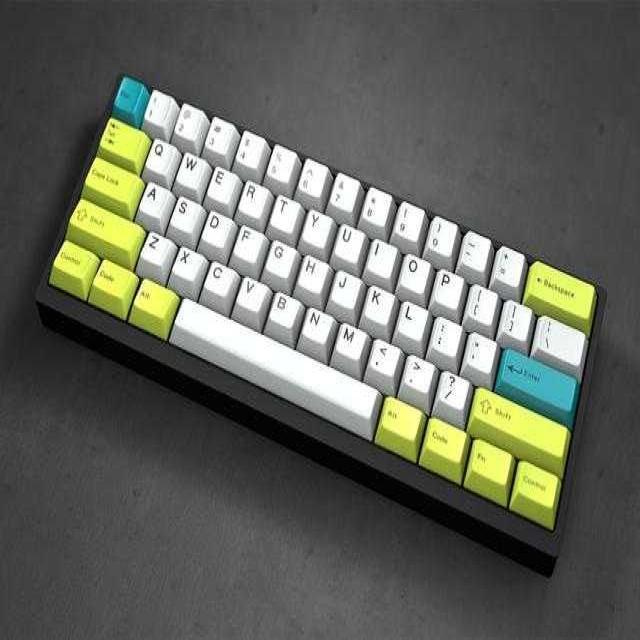keyboard: (37, 70, 606, 574)
